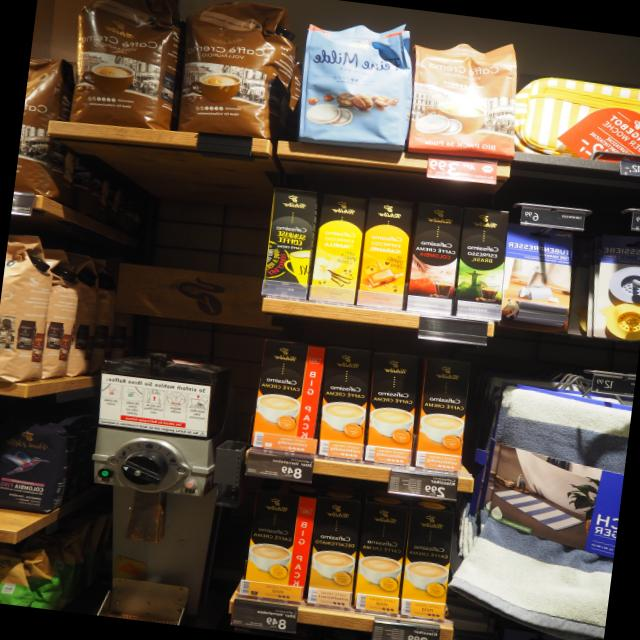C Fino Bohne: (0, 414, 73, 515)
CC Vollmundig: (400, 27, 534, 173)
CC Vollmundig 36 Pads: (172, 0, 302, 147), (64, 0, 194, 138)
FM 36 Pads: (286, 6, 428, 160)
Simo CC Colombia: (404, 201, 465, 315)
Simo CCMild: (239, 488, 320, 604)
Simo CCMild bigpack: (351, 500, 409, 614), (398, 506, 455, 620)
Simo CCVollmundig: (249, 338, 326, 453)
Simo CCVollmundig bigpack: (363, 351, 421, 467), (413, 356, 470, 473), (316, 346, 372, 461)
Simo Decaff: (304, 495, 362, 610)
Simo Es Brazil: (453, 206, 510, 322)
Simo Es Caramel: (354, 195, 415, 310)
Simo Es Vanilla: (308, 190, 368, 305)
Simo Sunrise: (259, 185, 317, 299)
